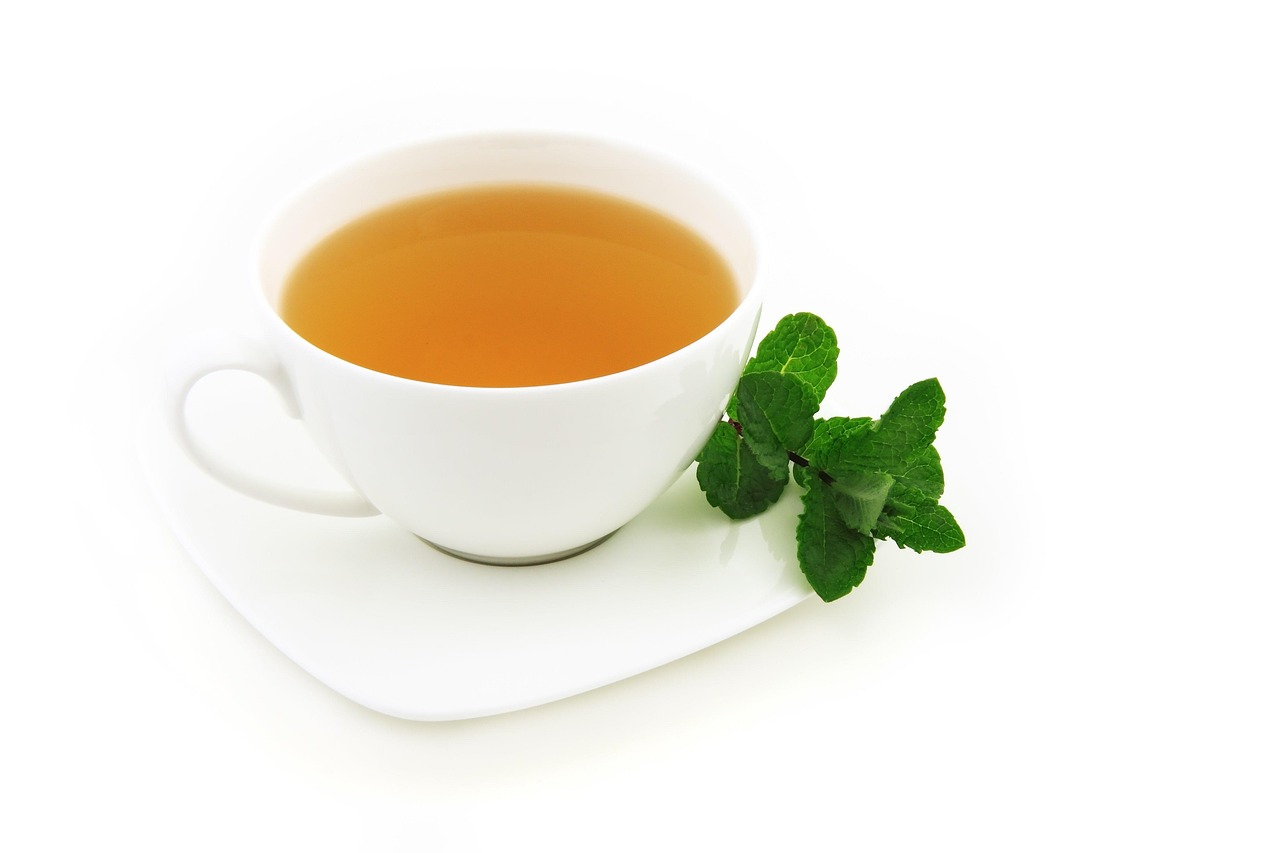mug: (156, 161, 810, 594)
